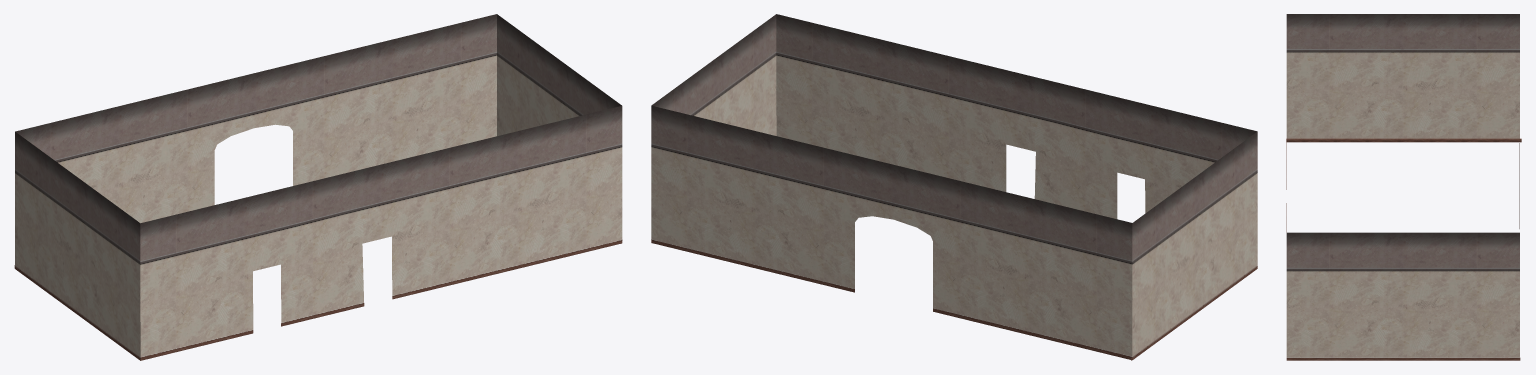
File: diningwalls.fbx
The picture shows the model from 3 angles, left to right: view 1: azimuth 30°, elevation 25°; view 2: azimuth 150°, elevation 25°; view 3: azimuth 270°, elevation 25°; orthographic projection. The views are drawn at different scales.
Parts seen in each view (by area): view 1: polySurface1610; view 2: polySurface1610; view 3: polySurface1610.
Part boxes in pixels (box(x1,y1,x2,y2)): polySurface1610: box(14, 14, 622, 360); polySurface1610: box(651, 14, 1257, 360); polySurface1610: box(1286, 14, 1521, 360).
Bounding box in the file's own units: 1772 × 483 × 804.
